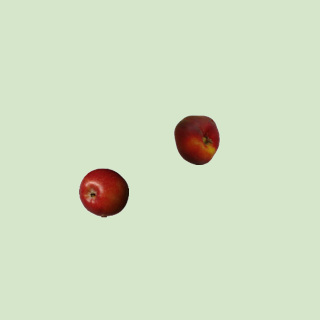Apple Braeburn: (78, 167, 128, 217)
Nectarine Flat: (171, 114, 221, 164)
